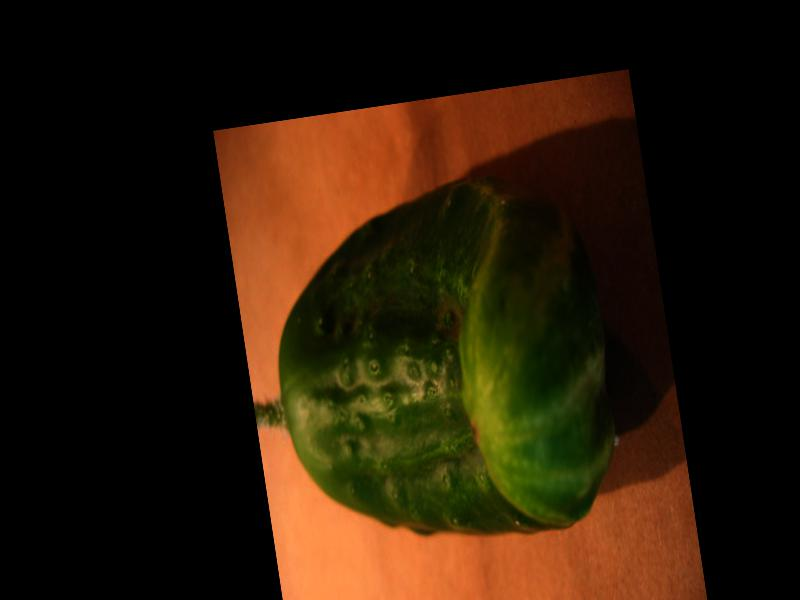Cucumber: (253, 166, 631, 570)
